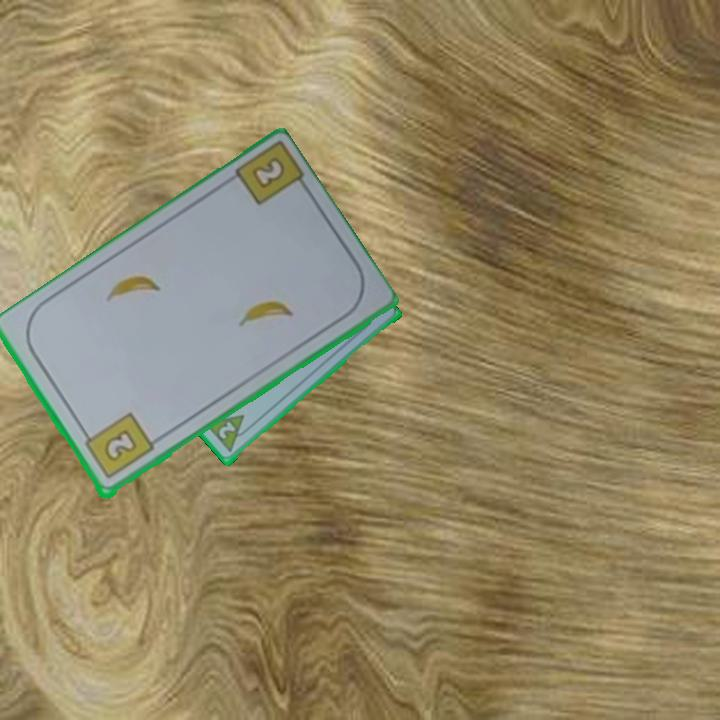2b: (79, 409, 157, 483), (248, 156, 285, 193)
2p: (215, 418, 239, 442)
